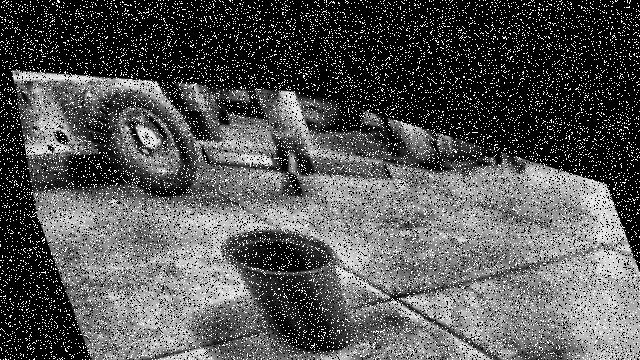pot: (221, 230, 351, 349)
